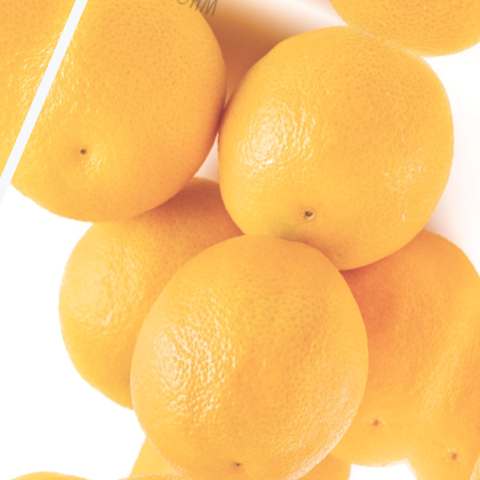orange: (146, 0, 480, 314), (80, 191, 418, 480), (0, 0, 270, 300)
